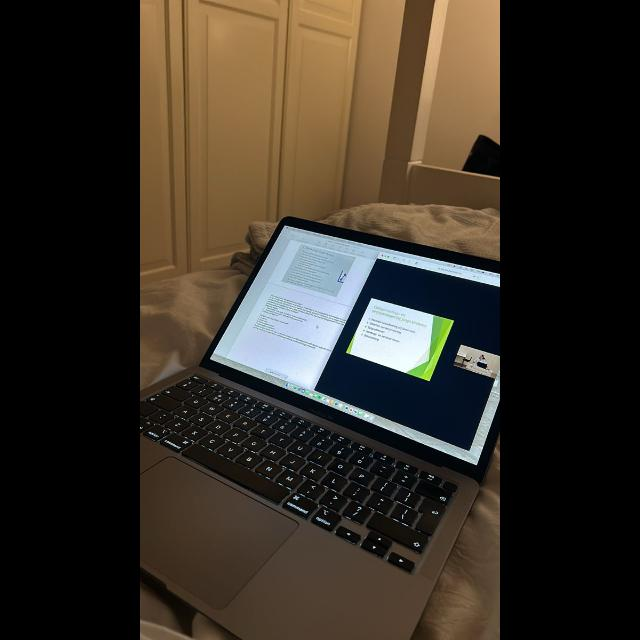laptop: (140, 217, 499, 639)
